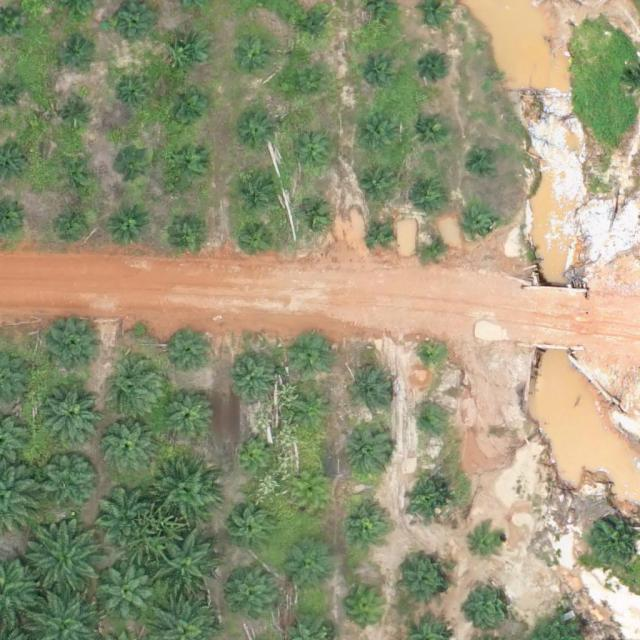Grass: (172, 35, 211, 75)
Healthy: (28, 526, 106, 604), (157, 538, 220, 601), (39, 379, 102, 442), (154, 461, 216, 523), (105, 359, 167, 421), (103, 421, 158, 477), (102, 568, 157, 623), (43, 453, 98, 508), (162, 388, 217, 443), (48, 318, 103, 373), (226, 569, 280, 624), (96, 488, 150, 543), (228, 352, 282, 407), (347, 426, 394, 474)
Small: (399, 557, 454, 612), (347, 365, 394, 413), (166, 331, 213, 379), (404, 478, 451, 526), (467, 580, 514, 628), (227, 506, 274, 553), (287, 546, 334, 593), (342, 500, 389, 547), (346, 583, 393, 630), (357, 115, 397, 155), (292, 334, 332, 374), (358, 55, 398, 94), (108, 207, 147, 247), (239, 172, 278, 212), (168, 143, 207, 183), (167, 210, 206, 250), (237, 112, 276, 152), (114, 148, 154, 187), (296, 394, 335, 434), (296, 197, 335, 237), (412, 175, 451, 215), (471, 523, 510, 563), (169, 90, 208, 129), (238, 37, 277, 76), (287, 70, 326, 109), (116, 3, 155, 42), (56, 207, 95, 246), (59, 156, 98, 195), (233, 436, 272, 475), (237, 221, 276, 260), (293, 136, 332, 175), (412, 110, 451, 149), (358, 166, 397, 205), (366, 219, 397, 251), (420, 232, 451, 264), (60, 44, 91, 75), (65, 102, 96, 133), (116, 79, 147, 110), (422, 55, 453, 86), (465, 211, 496, 242), (471, 146, 502, 177), (416, 341, 447, 372), (413, 408, 444, 439), (300, 14, 331, 45)
Yellow: (290, 473, 329, 512)
